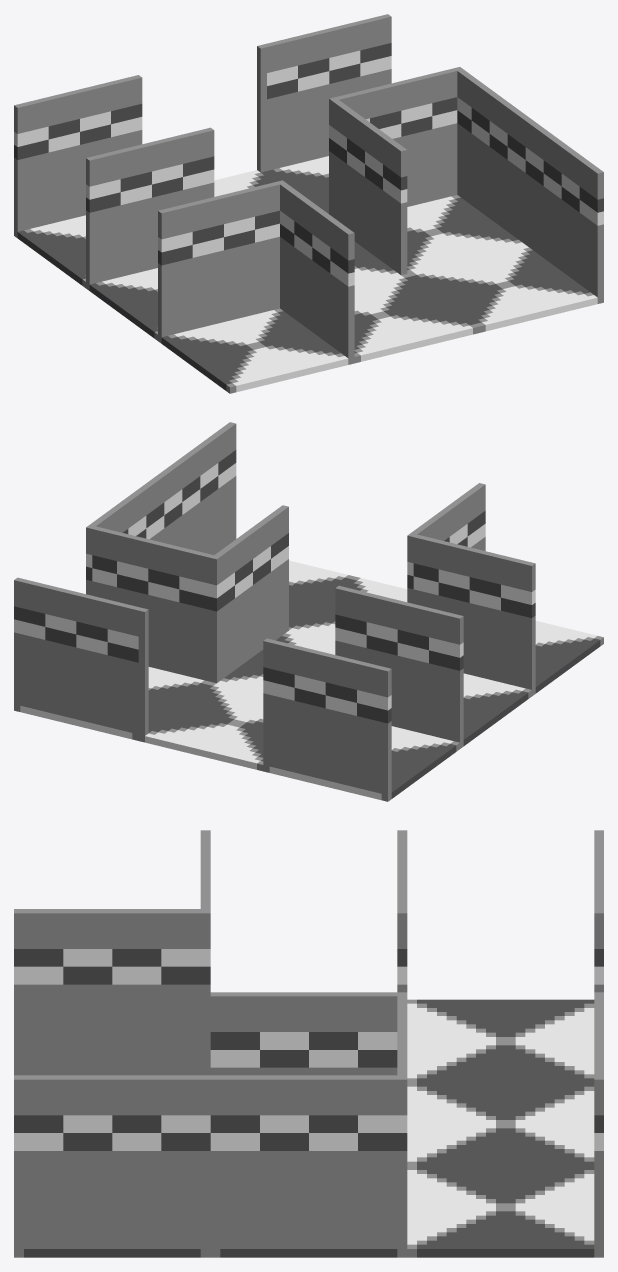
Rendered from level_maze-4.obj.
3 renders of one model, top to bottom at view 1: azimuth 30°, elevation 25°; view 2: azimuth 150°, elevation 25°; view 3: azimuth 270°, elevation 25°, orthographic. The views are drawn at different scales.
Parts seen in each view (by area): view 1: level_maze-4; view 2: level_maze-4; view 3: level_maze-4.
Part boxes in pixels (x1,y1,x2,y2): level_maze-4: [14, 14, 603, 393]; level_maze-4: [14, 422, 603, 801]; level_maze-4: [14, 830, 603, 1257].
Size of the model in its own units: 60 by 20 by 60.
Materials: 1 (1 with a texture image).
